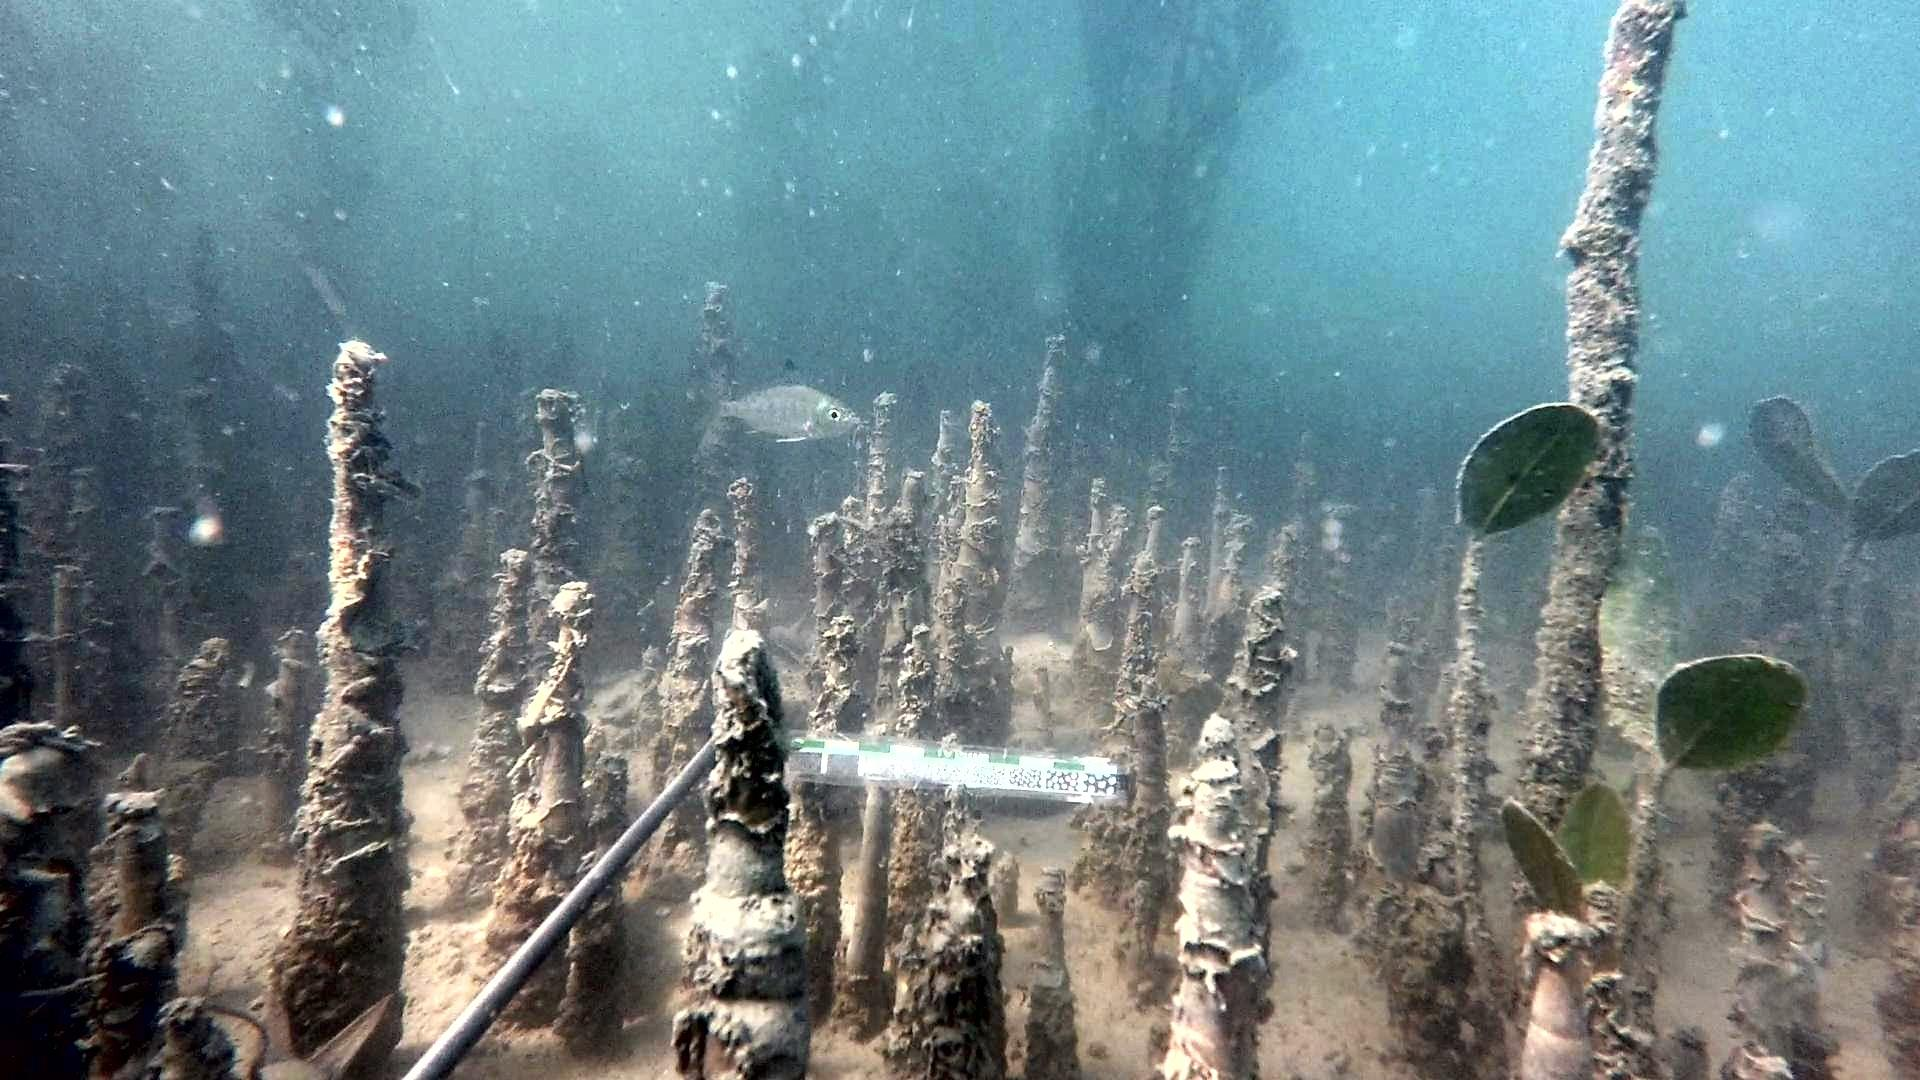gerres: (686, 357, 863, 445)
